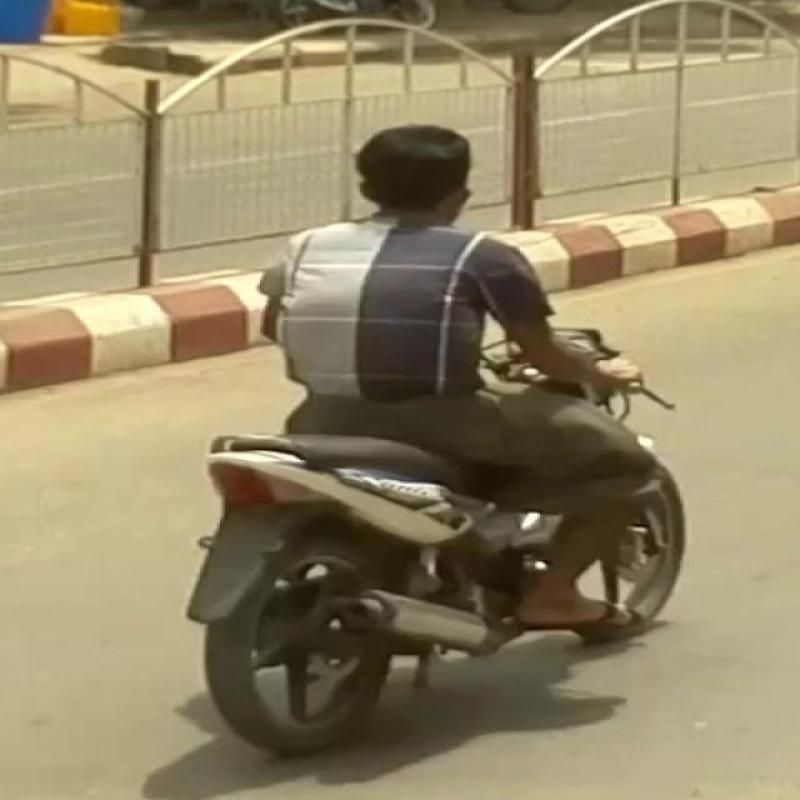nohelmet: (311, 106, 539, 226)
